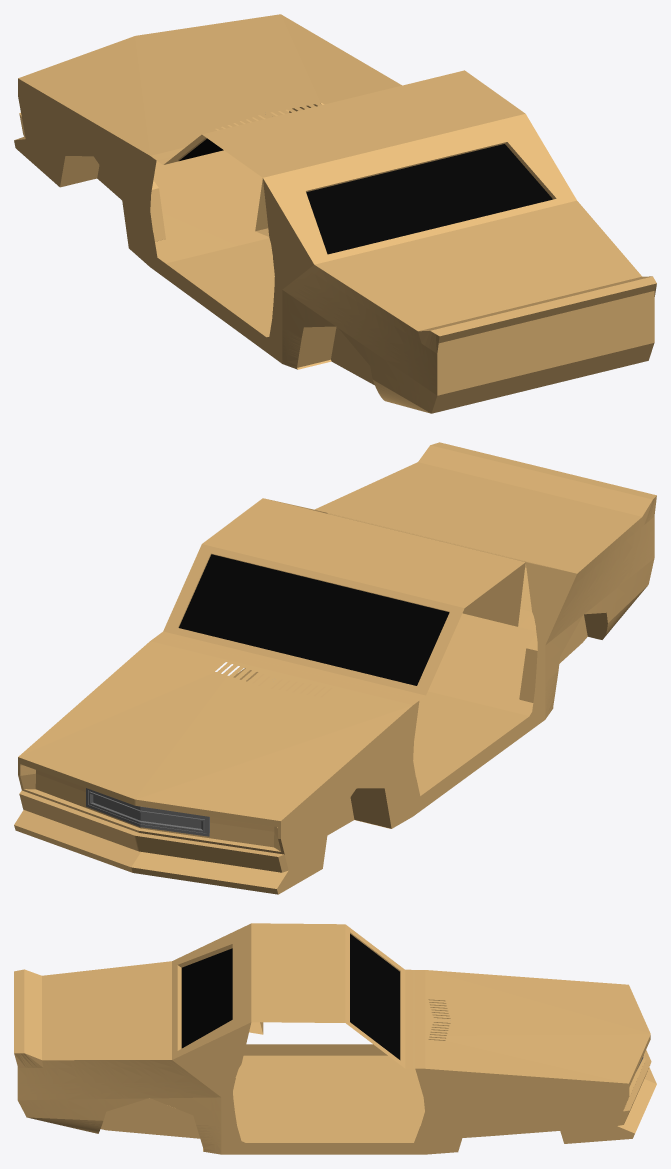
File: Car_Base.fbx
3 views of the same model, one above another, from view 1: azimuth 30°, elevation 25°; view 2: azimuth 150°, elevation 25°; view 3: azimuth 270°, elevation 25° (orthographic). The views are drawn at different scales.
Visible parts, largest first — view 1: Cube_1_3; view 2: Cube_1_3, Cube_3_5; view 3: Cube_1_3.
Part boxes in pixels (box(x1,y1,x2,y2)): Cube_1_3: box(14, 14, 656, 413); Cube_1_3: box(14, 442, 656, 894); Cube_3_5: box(86, 788, 209, 836); Cube_1_3: box(14, 923, 656, 1154).
Size of the model in its own units: 200 by 125 by 550.
